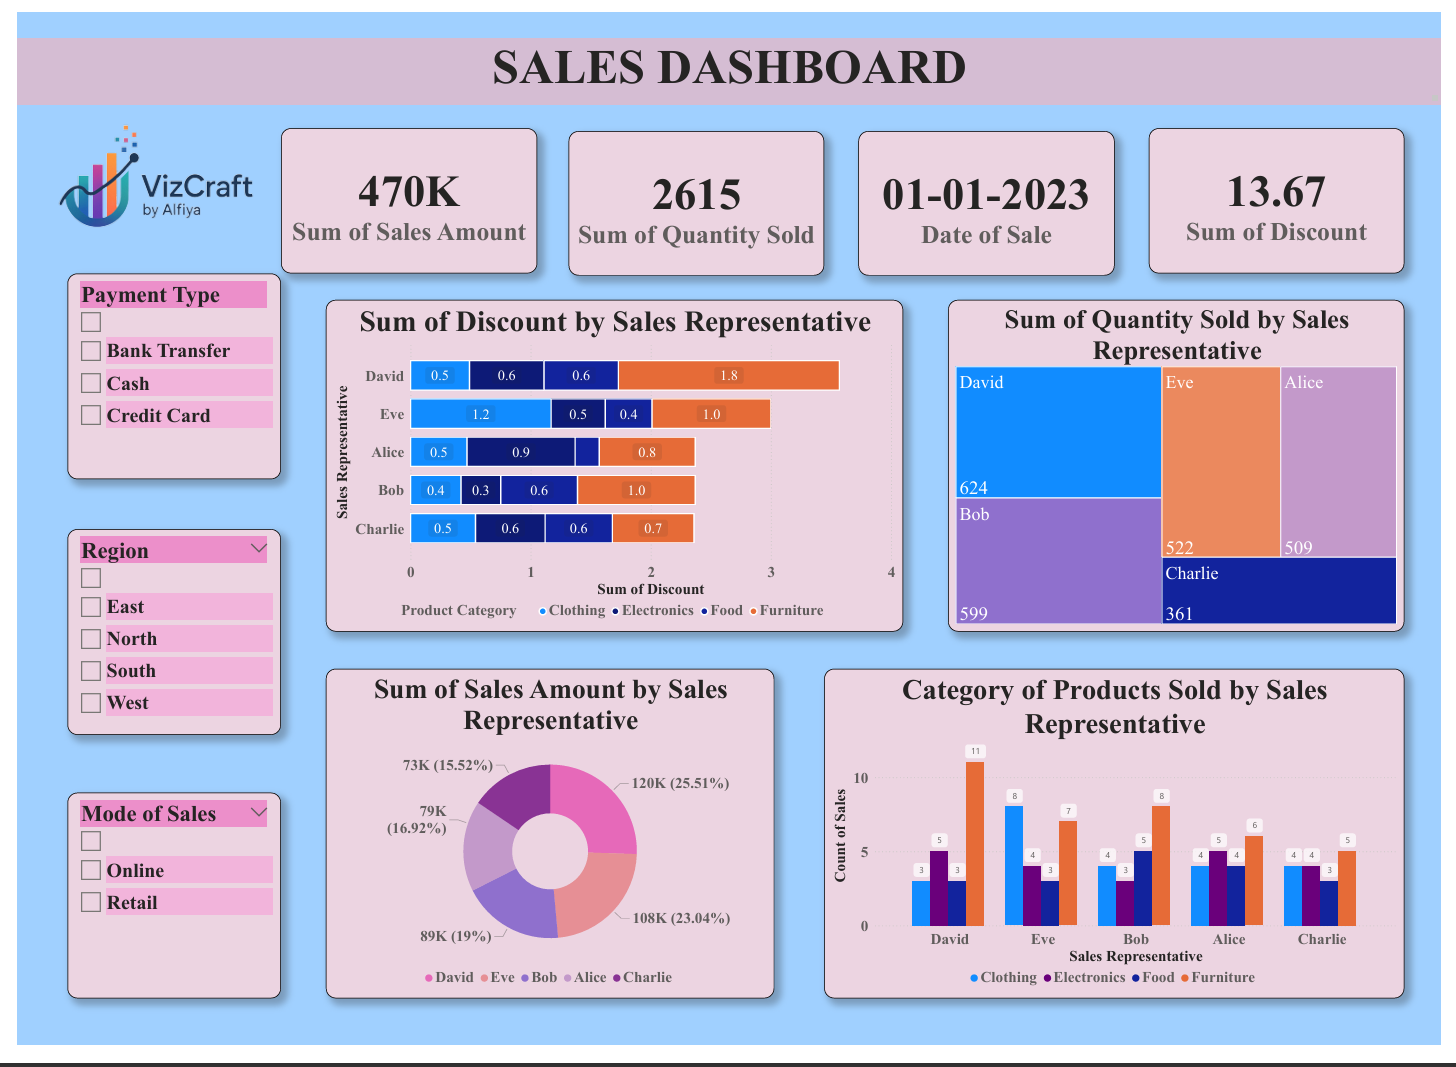

The dashboard page shown, as its layout file describes it:
{"tool":"powerbi","page":{"name":"Page 1","canvas":[2000,1450],"ordinal":0},"visuals":[{"type":"donutChart","fields":{"Category":["sales data for powerbi.Sales Representative"],"Y":["sales data for powerbi.Sales Amount"]},"box":[433.3,922.2,629.6,463],"z":0},{"type":"lineClusteredColumnComboChart","title":"Category of Products Sold by Sales Representative ","fields":{"Y":["sales data for powerbi.Product_Category"],"Category":["sales data for powerbi.Sales Representative"],"Series":["sales data for powerbi.Product_Category"]},"box":[1133.3,922.2,814.8,463],"z":1000},{"type":"barChart","title":"Sum of Discount by Sales Representative ","fields":{"Category":["sales data for powerbi.Sales Representative"],"Y":["sales data for powerbi.Discount"],"Series":["sales data for powerbi.Product_Category"]},"box":[433.3,403.7,811.1,466.7],"z":2000},{"type":"slicer","fields":{"Values":["sales data for powerbi.Region"]},"box":[70.4,725.9,300,288.9],"z":3000},{"type":"slicer","fields":{"Values":["sales data for powerbi.Sales_Channel"]},"box":[70.4,1096.3,300,288.9],"z":4000},{"type":"slicer","fields":{"Values":["sales data for powerbi.Payment_Method"]},"box":[70.4,366.7,300,288.9],"z":5000},{"type":"treemap","fields":{"Group":["sales data for powerbi.Sales Representative"],"Values":["sales data for powerbi.Quantity Sold"]},"box":[1307.4,403.7,640.7,466.7],"z":6000},{"type":"card","fields":{"Values":["sales data for powerbi.Sales Amount"]},"box":[370.4,163,359.3,203.7],"z":7000},{"type":"card","fields":{"Values":["sales data for powerbi.Sale_Date"]},"box":[1181.5,166.7,359.3,203.7],"z":8000},{"type":"card","fields":{"Values":["sales data for powerbi.Quantity Sold"]},"box":[774.1,166.7,359.3,203.7],"z":9000},{"type":"card","fields":{"Values":["sales data for powerbi.Discount"]},"box":[1588.9,163,359.3,203.7],"z":10000},{"type":"image","box":[3.7,85.2,366.7,329.6],"z":11000},{"type":"textbox","title":"        SALES DASHBOARD","box":[0,37,2000,92.6],"z":12000}]}

Visuals, with their boxes in screenshot pixels (x1, y1, x2, y2), scaled from the page's 2000x1450 canvas onto the 1456x1067 screenshot:
donutChart - sales data for powerbi.Sales Representative x sales data for powerbi.Sales Amount: left=315, top=679, right=774, bottom=1019
"Category of Products Sold by Sales Representative " lineClusteredColumnComboChart: left=825, top=679, right=1418, bottom=1019
"Sum of Discount by Sales Representative " barChart: left=315, top=297, right=906, bottom=640
slicer - sales data for powerbi.Region: left=51, top=534, right=270, bottom=747
slicer - sales data for powerbi.Sales_Channel: left=51, top=807, right=270, bottom=1019
slicer - sales data for powerbi.Payment_Method: left=51, top=270, right=270, bottom=482
treemap - sales data for powerbi.Sales Representative x sales data for powerbi.Quantity Sold: left=952, top=297, right=1418, bottom=640
card - sales data for powerbi.Sales Amount: left=270, top=120, right=531, bottom=270
card - sales data for powerbi.Sale_Date: left=860, top=123, right=1122, bottom=273
card - sales data for powerbi.Quantity Sold: left=564, top=123, right=825, bottom=273
card - sales data for powerbi.Discount: left=1157, top=120, right=1418, bottom=270
image: left=3, top=63, right=270, bottom=305
"        SALES DASHBOARD" textbox: left=0, top=27, right=1455, bottom=95
